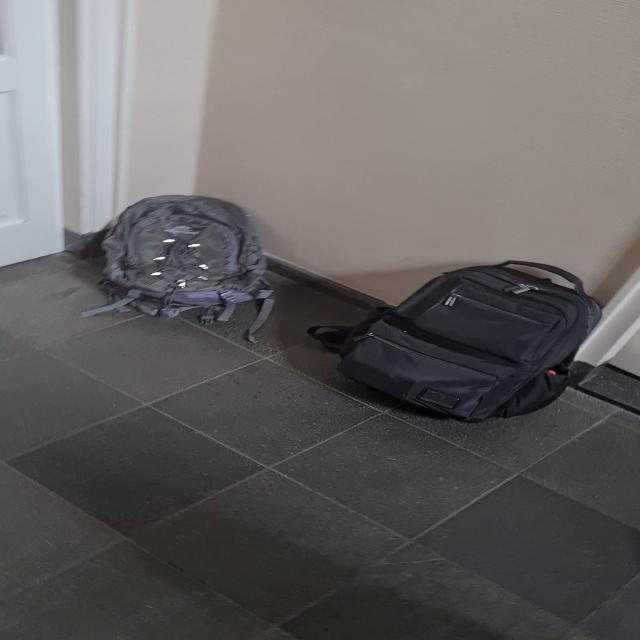backpack: (332, 258, 611, 431), (92, 190, 273, 320)
